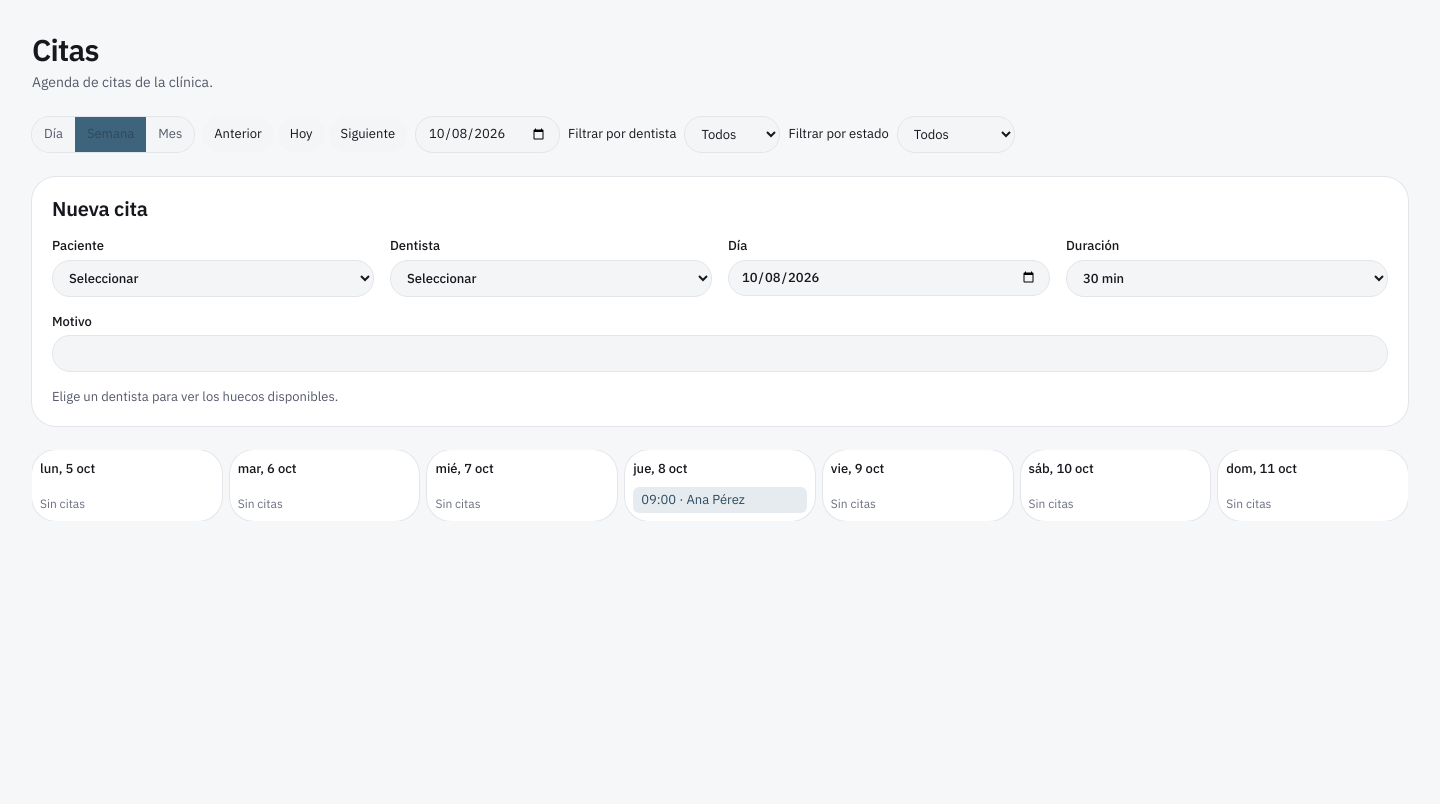
Test: Citas — agenda por vistas › OWNER ve la semana y cambia a día y mes
The image size is (1440, 804).
Check: the text "09:00 · Ana Pérez" is shown, box [641, 491, 745, 508]
Click the button "Mes" at x=170, y=134, box [146, 117, 194, 152]
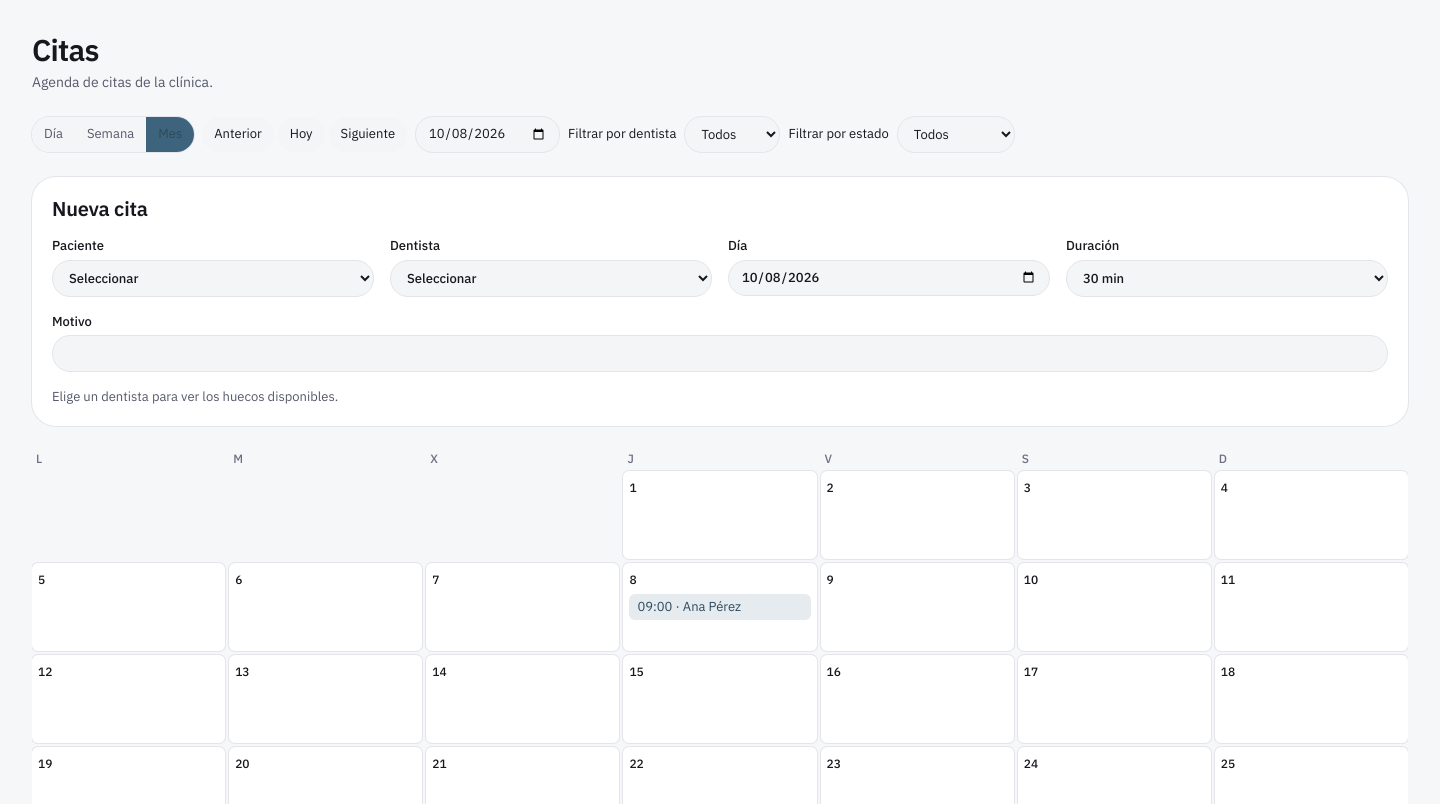
Check: the text "09:00 · Ana Pérez" is shown, box [637, 598, 741, 614]
Check: the button named "Ver día" is shown, box [629, 480, 637, 497]
Click the button "Día" at x=53, y=134, box [32, 117, 75, 152]
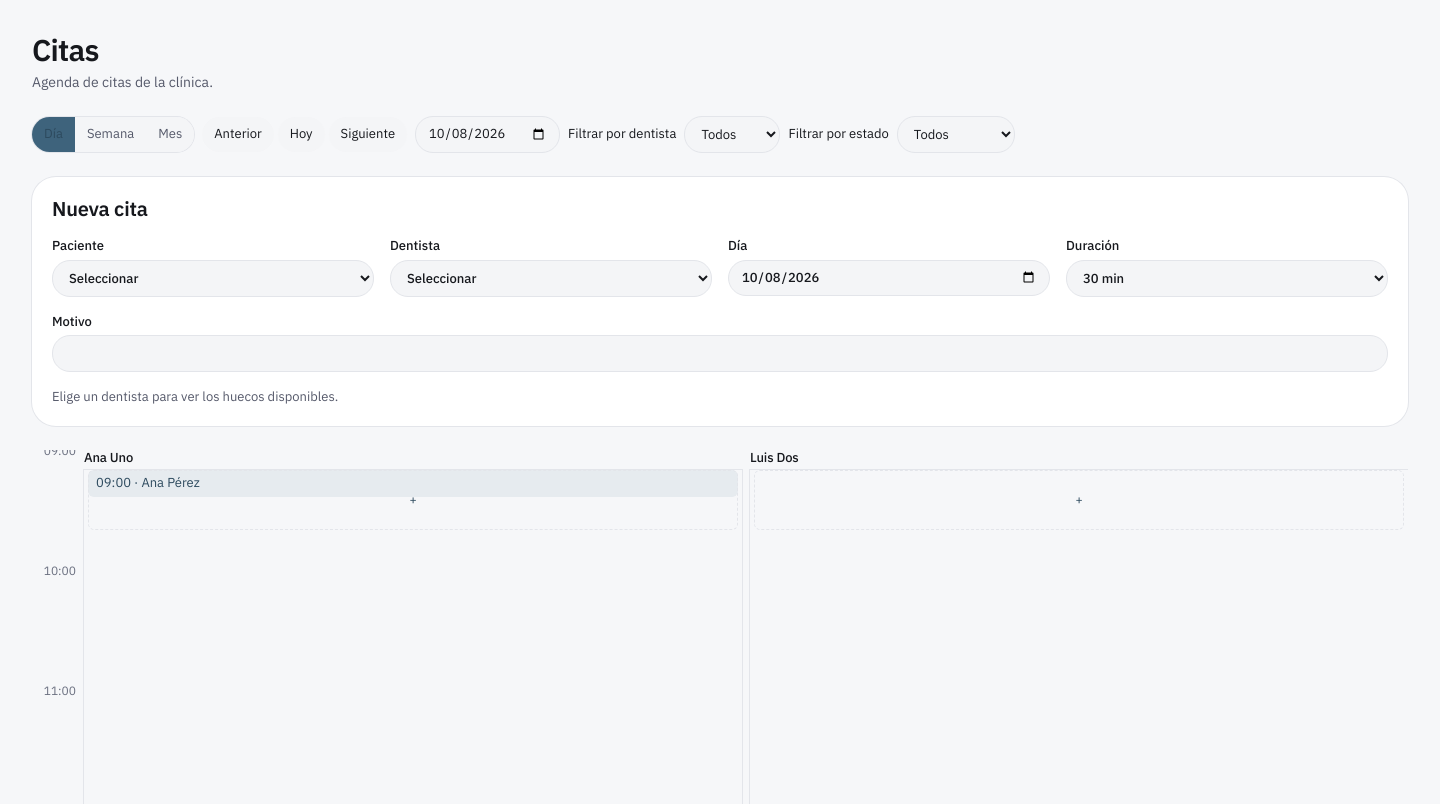
Check: the text "09:00 · Ana Pérez" is shown, box [96, 474, 200, 491]
Check: the heading "Ana Uno" is shown, box [84, 450, 133, 466]
Check: the button named "Reservar " is shown, box [88, 470, 738, 530]
